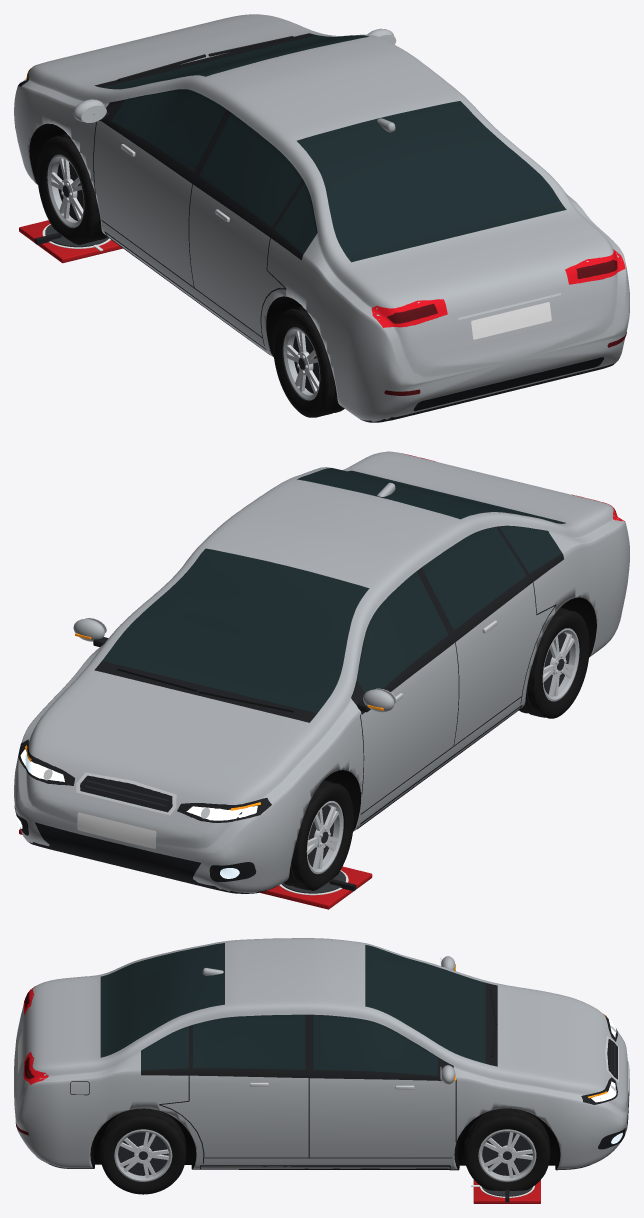
The picture shows the model from 3 angles, top to bottom: view 1: azimuth 30°, elevation 25°; view 2: azimuth 150°, elevation 25°; view 3: azimuth 270°, elevation 25°; orthographic projection. The views are drawn at different scales.
Parts seen in each view (by area): view 1: Body, Wheel_RL_mesh, Wheel_FL_mesh, Turntables; view 2: Body, Wheel_RL_mesh, Wheel_FL_mesh, Turntables; view 3: Body, Wheel_RR_mesh, Wheel_FR_mesh, Turntables.
Part boxes in pixels (x1,y1,x2,y2): Body: (14, 14, 629, 422); Wheel_RL_mesh: (273, 306, 344, 417); Wheel_FL_mesh: (37, 134, 107, 244); Turntables: (19, 220, 122, 263); Body: (14, 451, 629, 893); Wheel_RL_mesh: (519, 607, 589, 718); Wheel_FL_mesh: (283, 780, 353, 890); Turntables: (19, 829, 372, 909); Body: (14, 938, 629, 1170); Wheel_RR_mesh: (100, 1108, 186, 1194); Wheel_FR_mesh: (464, 1108, 550, 1190); Turntables: (471, 1180, 540, 1203).
Bounding box in the file's own units: 2.11 × 1.45 × 4.57.
